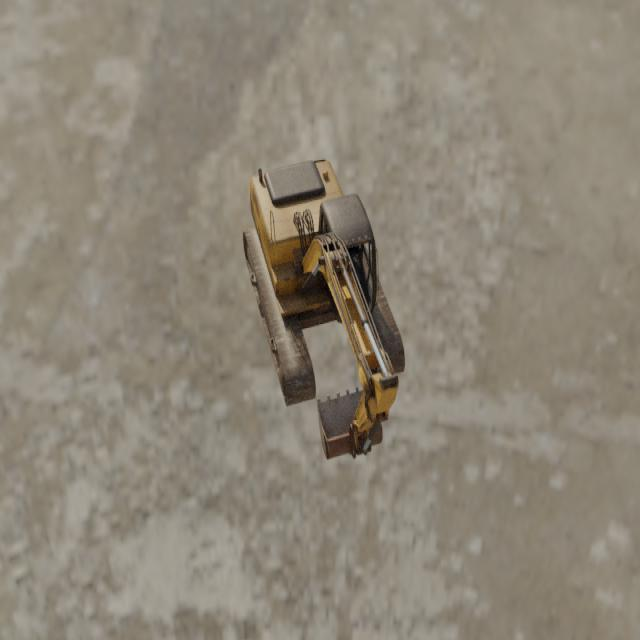excavator: (242, 157, 405, 460)
